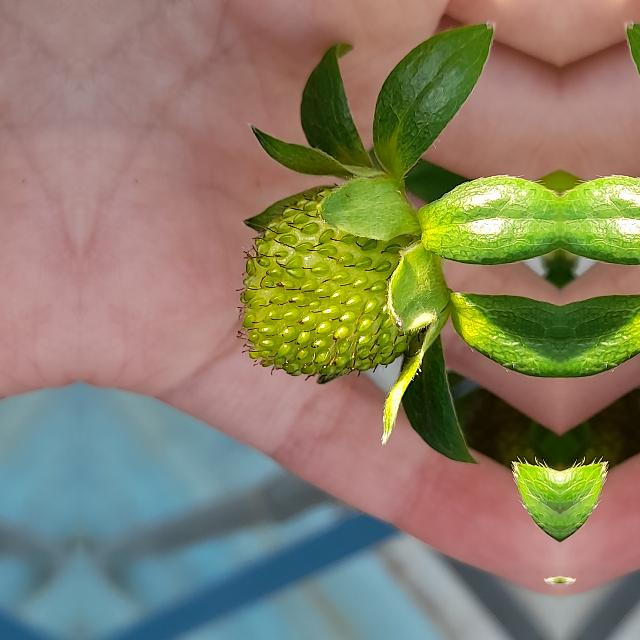Health_25: (236, 180, 422, 382)
